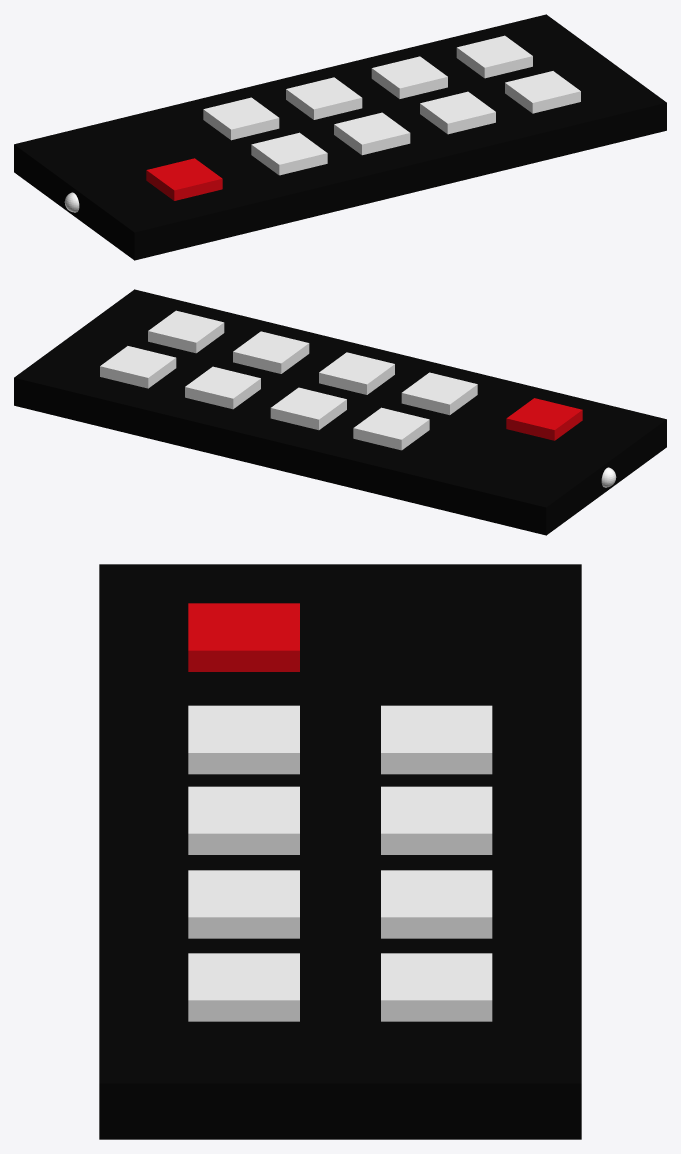
Rendered from Pult.fbx.
3 views of the same model, one above another, from view 1: azimuth 30°, elevation 25°; view 2: azimuth 150°, elevation 25°; view 3: azimuth 270°, elevation 25° (orthographic). The views are drawn at different scales.
Visible parts, largest first — view 1: Cube, Cube.007, Cube.001, Cube.009, Cube.002, Cube.003, Cube.004, Cube.005, Cube.006, Cube.008; view 2: Cube, Cube.006, Cube.001, Cube.008, Cube.002, Cube.003, Cube.005, Cube.009, Cube.007, Cube.004; view 3: Cube, Cube.002, Cube.003, Cube.001, Cube.004, Cube.006, Cube.007, Cube.008, Cube.009, Cube.005.
Part boxes in pixels (<box>): Cube: <box>14,14,666,260</box>; Cube.007: <box>371,56,447,98</box>; Cube.001: <box>146,158,222,200</box>; Cube.009: <box>456,35,532,78</box>; Cube.002: <box>251,132,327,175</box>; Cube.003: <box>203,97,279,140</box>; Cube.004: <box>334,112,410,155</box>; Cube.005: <box>286,77,362,119</box>; Cube.006: <box>420,91,495,134</box>; Cube.008: <box>505,71,580,113</box>; Cube: <box>14,289,666,535</box>; Cube.006: <box>233,331,309,373</box>; Cube.001: <box>506,398,582,440</box>; Cube.008: <box>148,310,224,353</box>; Cube.002: <box>401,372,477,415</box>; Cube.003: <box>353,407,429,450</box>; Cube.005: <box>270,387,346,430</box>; Cube.009: <box>100,346,176,388</box>; Cube.007: <box>185,366,260,409</box>; Cube.004: <box>319,352,394,394</box>; Cube: <box>99,564,581,1139</box>; Cube.002: <box>188,705,299,774</box>; Cube.003: <box>381,705,492,774</box>; Cube.001: <box>188,603,299,671</box>; Cube.004: <box>188,786,299,854</box>; Cube.006: <box>188,870,299,938</box>; Cube.007: <box>381,870,492,938</box>; Cube.008: <box>188,953,299,1021</box>; Cube.009: <box>381,953,492,1021</box>; Cube.005: <box>381,786,492,854</box>.
Size of the model in its own units: 203 by 13.88 by 78.47.
